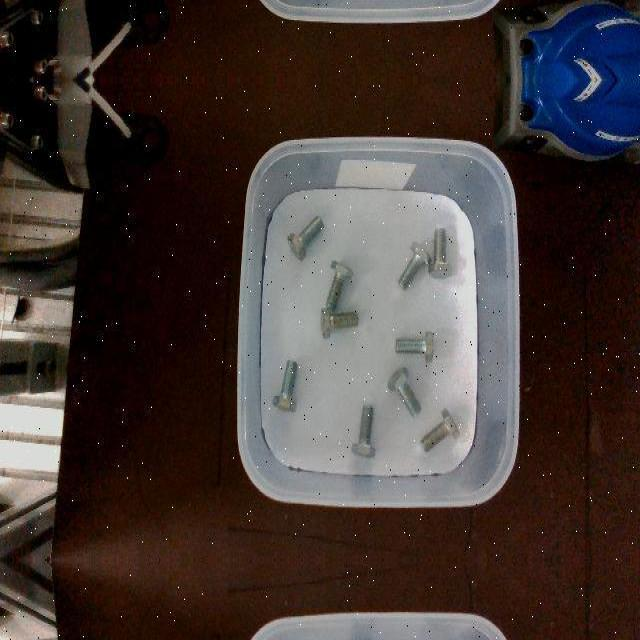screw: (419, 407, 459, 453), (287, 215, 324, 261), (387, 365, 421, 415), (398, 239, 431, 289), (325, 260, 352, 312), (272, 359, 298, 413), (351, 404, 375, 458), (428, 226, 452, 278), (395, 330, 433, 362), (319, 308, 357, 338)
